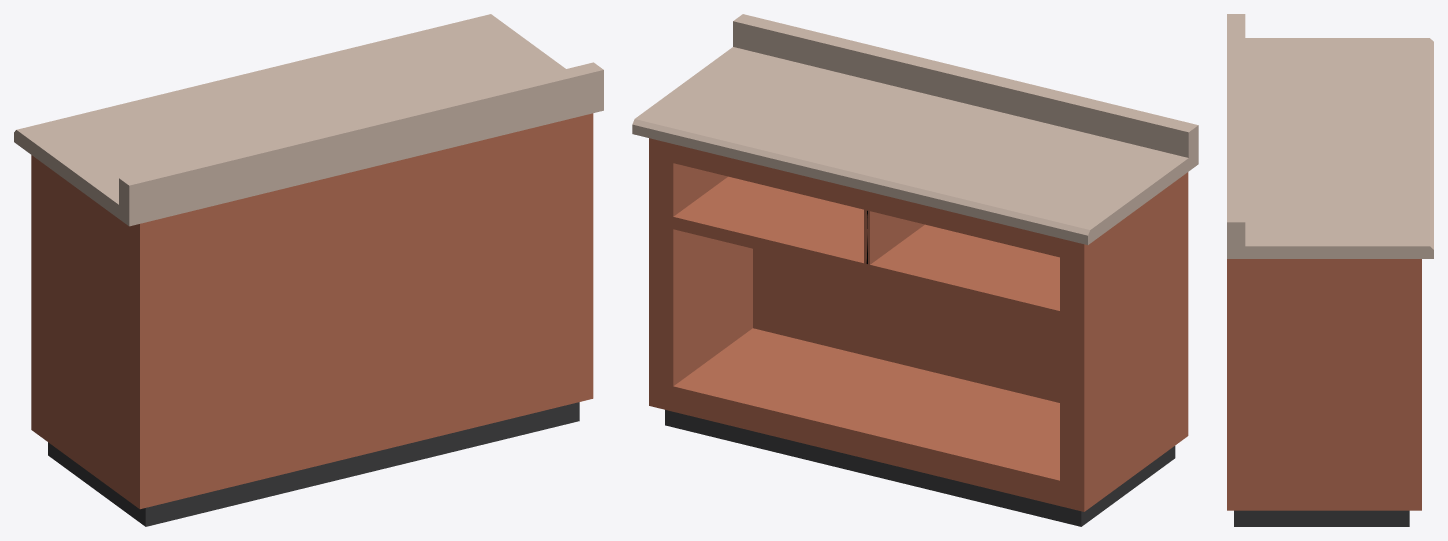
File: Large Dresser Base.fbx
3 views of the same model, side by side, from view 1: azimuth 30°, elevation 25°; view 2: azimuth 150°, elevation 25°; view 3: azimuth 270°, elevation 25° (orthographic). The views are drawn at different scales.
Visible parts, largest first — view 1: Dresser Big no door.001; view 2: Dresser Big no door.001; view 3: Dresser Big no door.001.
Part boxes in pixels (x1,y1,x2,y2): Dresser Big no door.001: [14, 14, 603, 526]; Dresser Big no door.001: [632, 14, 1198, 526]; Dresser Big no door.001: [1227, 14, 1433, 526].
Size of the model in its own units: 838 by 589 by 352.
